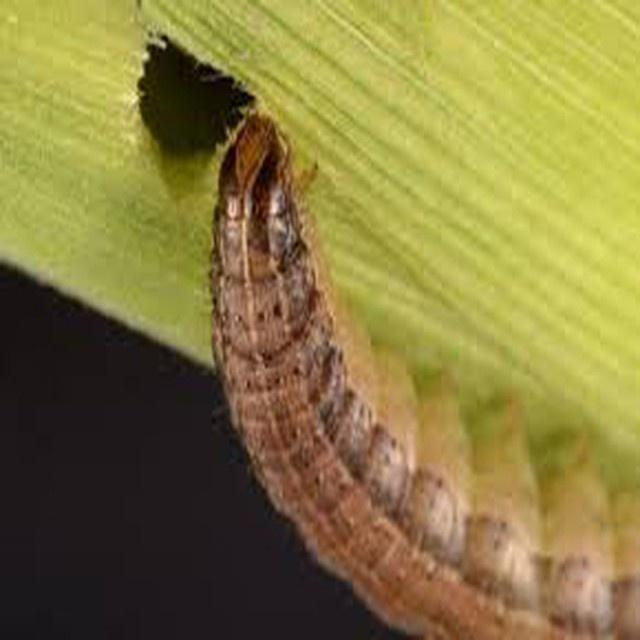gusano_cogollero: (214, 113, 638, 635)
